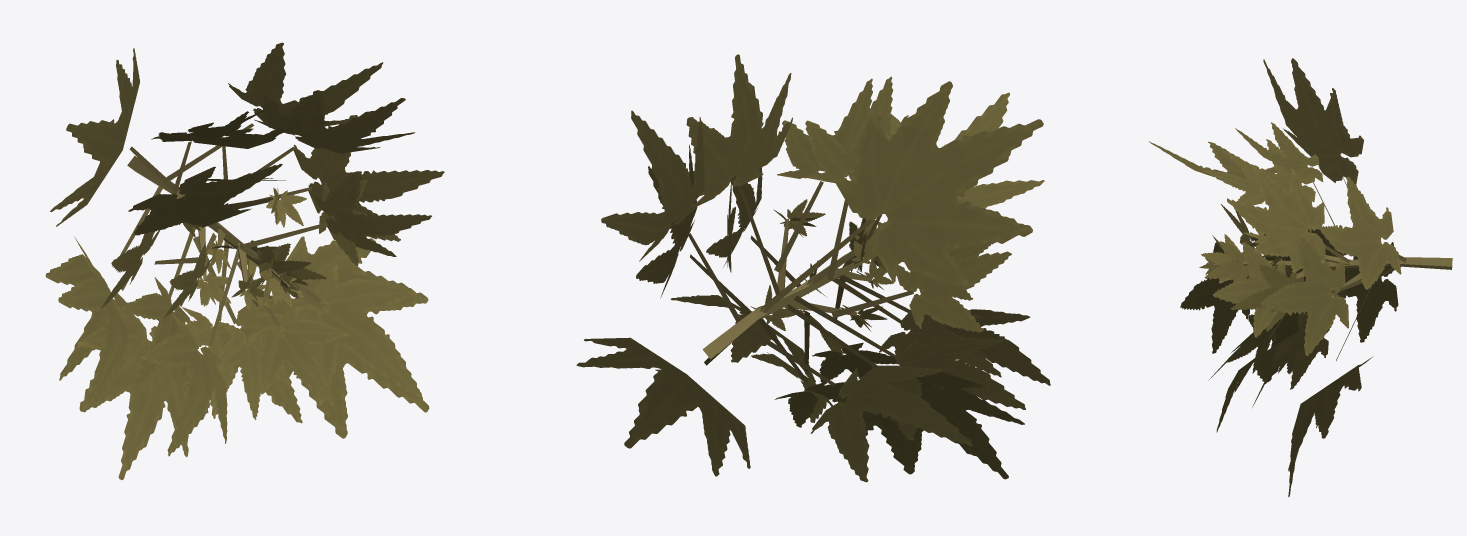
File: p_hybrid_vegetative_c2_cards.obj
3 views of the same model, side by side, from view 1: azimuth 30°, elevation 25°; view 2: azimuth 150°, elevation 25°; view 3: azimuth 270°, elevation 25° (orthographic). The views are drawn at different scales.
Size of the model in its own units: 1.33 by 1.29 by 0.906.
Materials: 1 (1 with a texture image).
